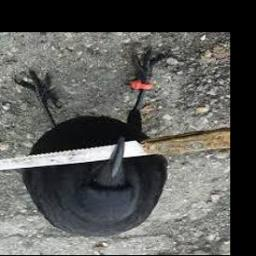Crow: (12, 49, 173, 238)
